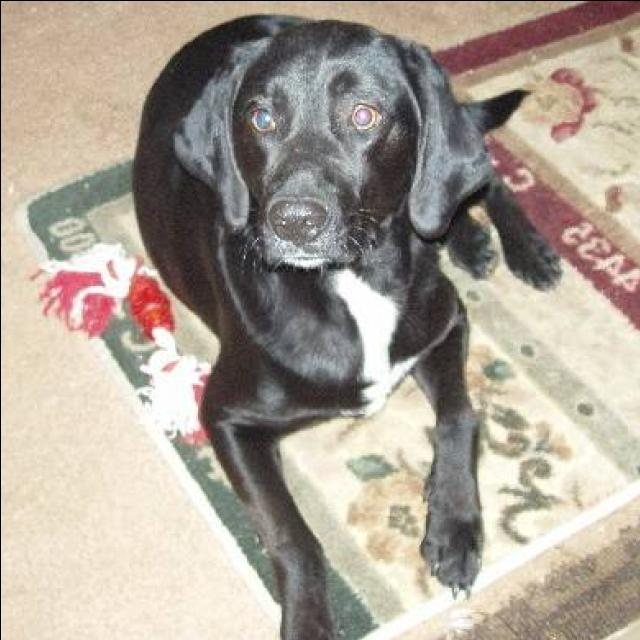dog: (96, 4, 550, 640)
